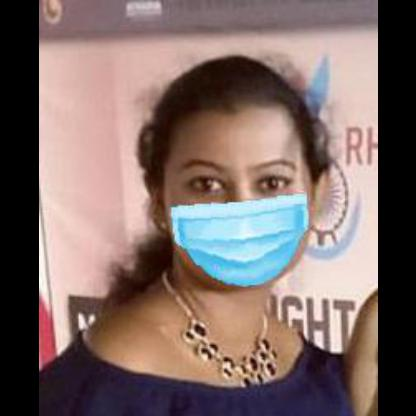Surgical Mask: (138, 98, 320, 278)
